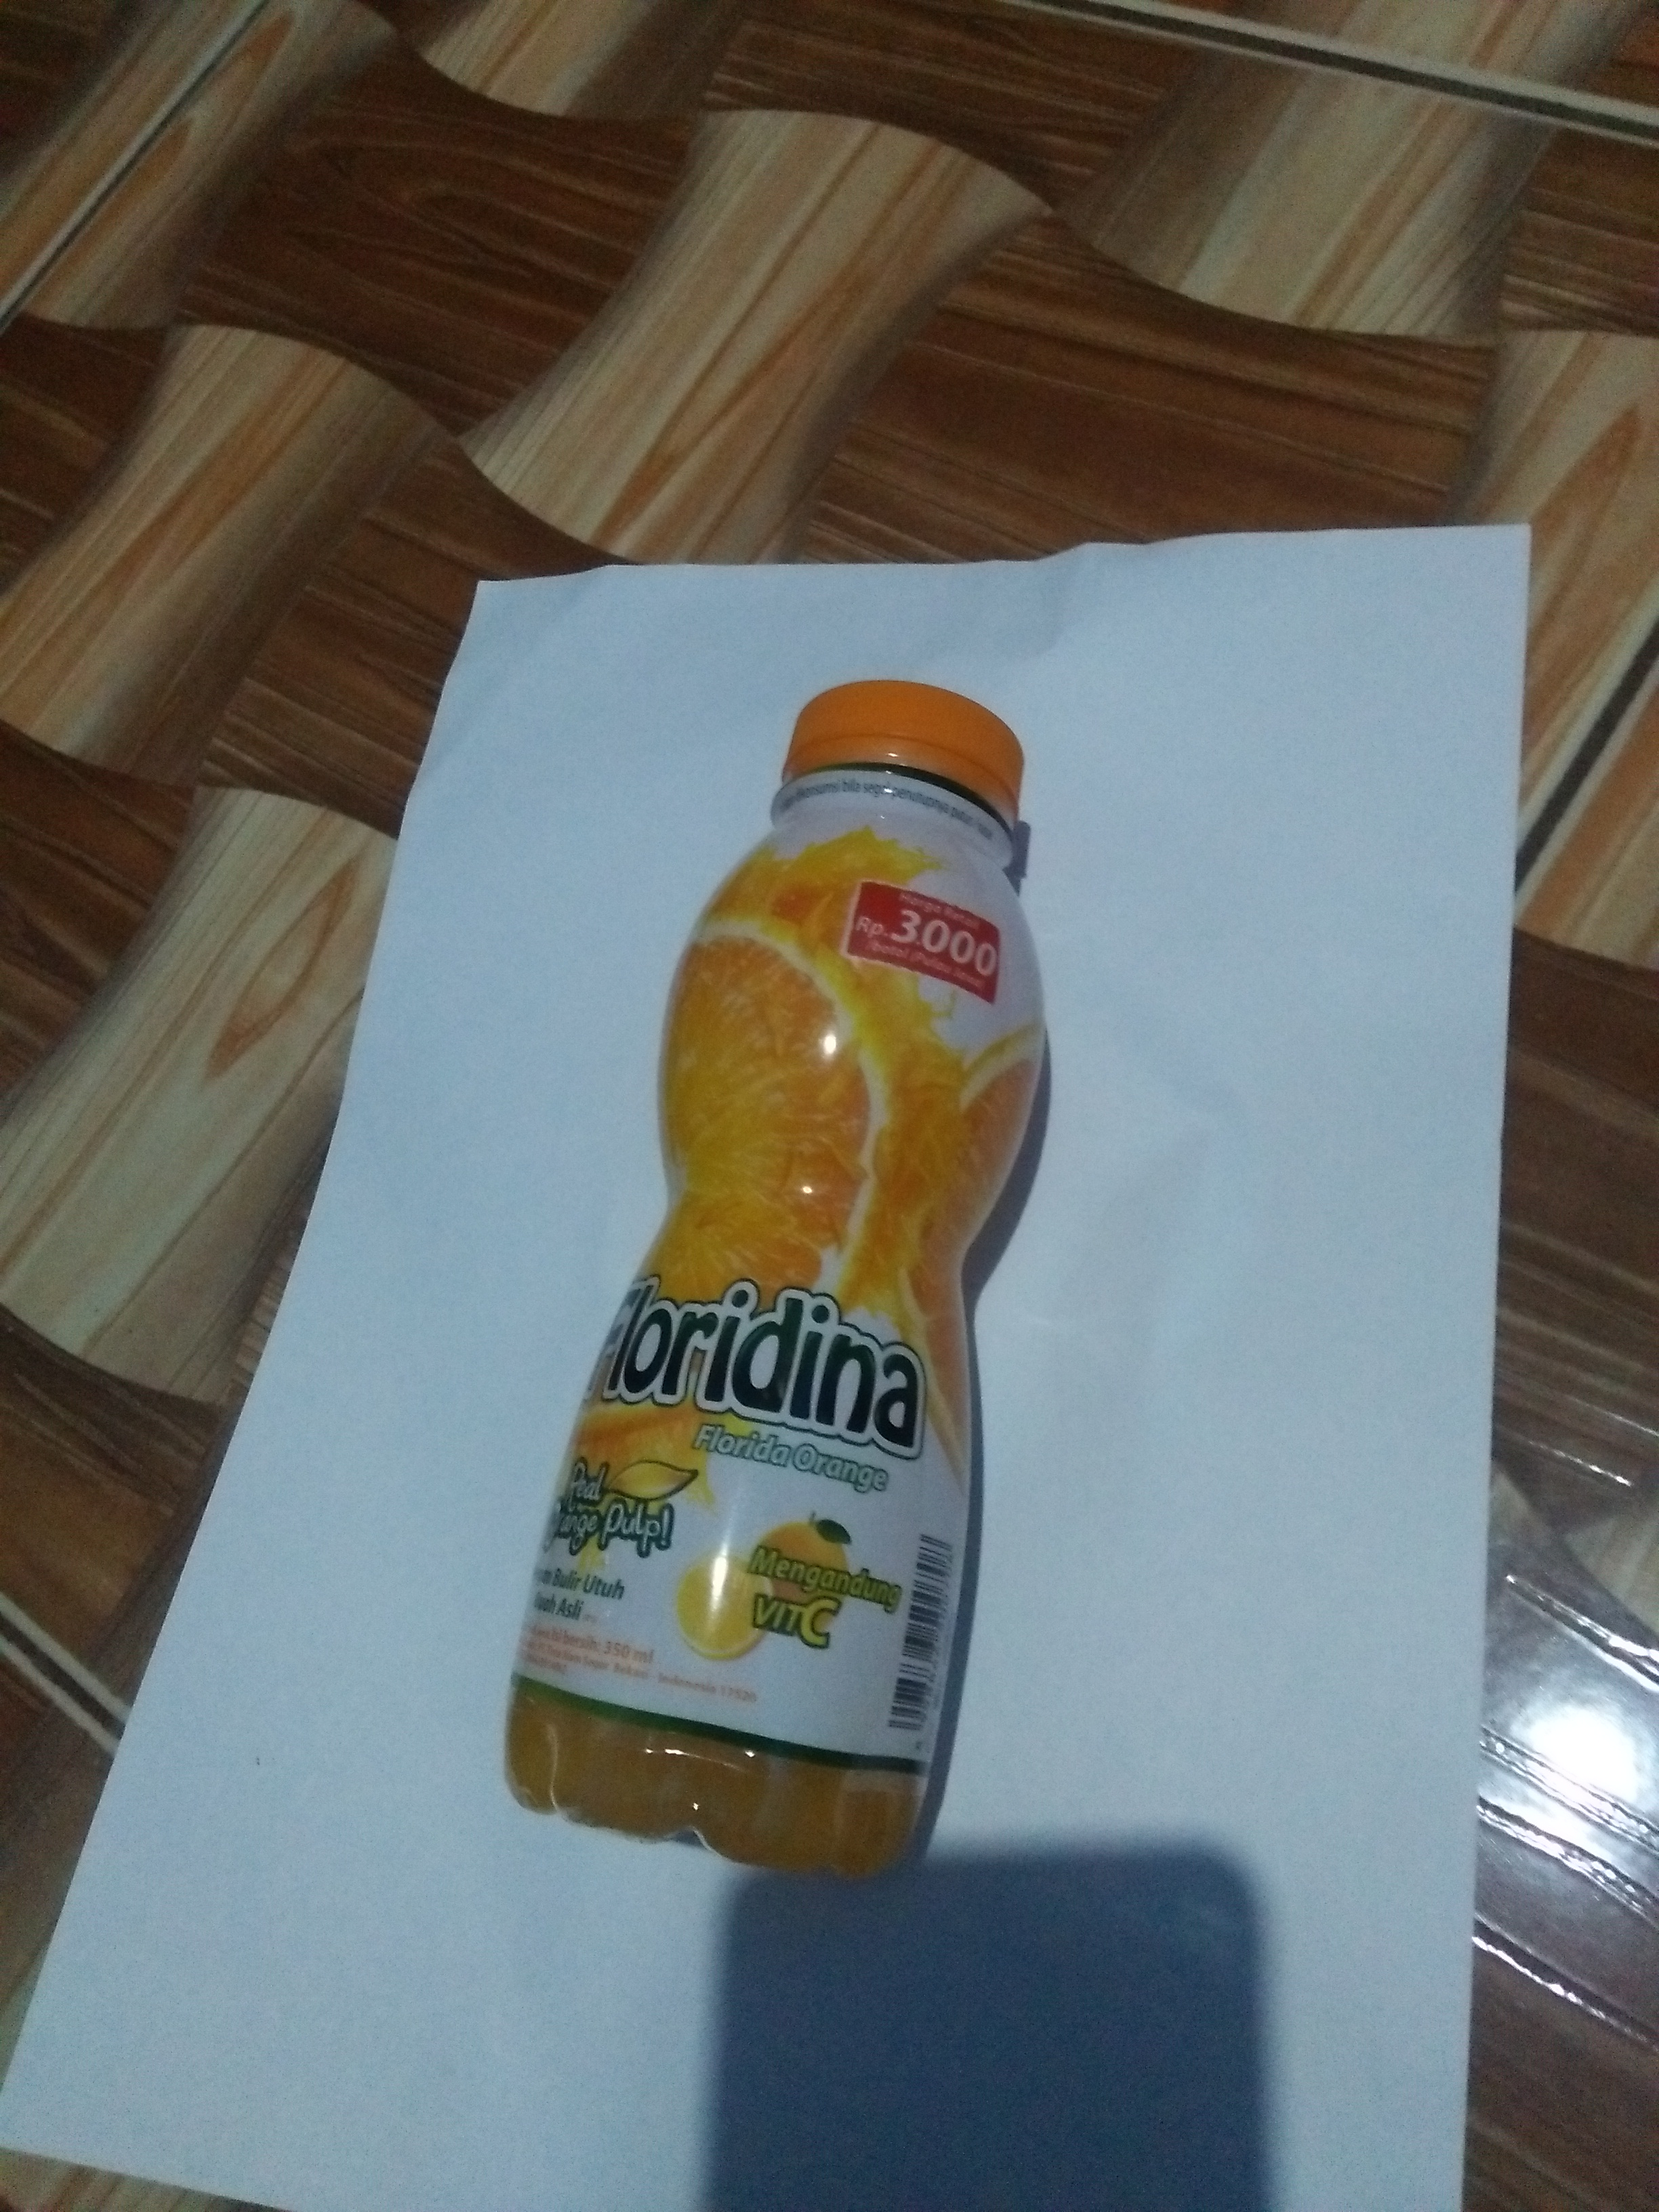Floridina: (498, 671, 1091, 1905)
